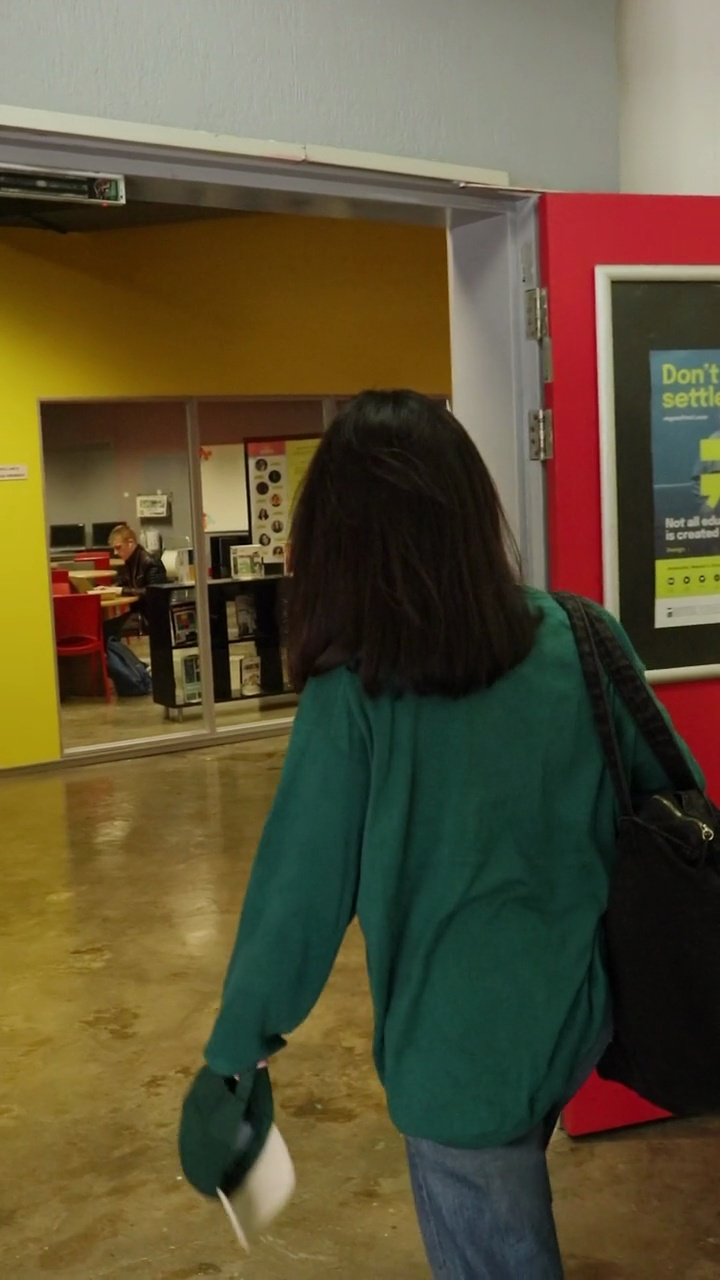dallah: (122, 375, 720, 1250)
electronics: (0, 139, 476, 759), (151, 136, 481, 744), (0, 141, 242, 784), (22, 367, 230, 718)
perfume_bottle: (201, 0, 720, 654), (475, 2, 720, 638), (641, 354, 720, 665)
